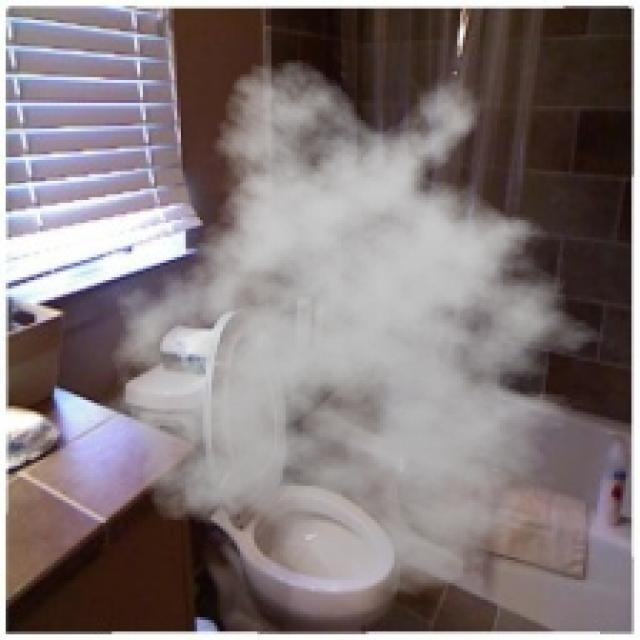Smoke: (83, 57, 626, 597)
